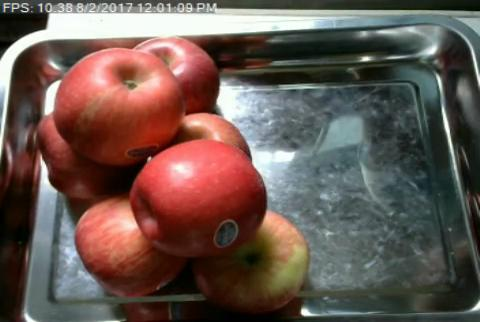apple: (131, 138, 268, 259), (55, 46, 184, 157), (195, 209, 308, 313), (77, 198, 172, 296), (140, 35, 221, 107)
